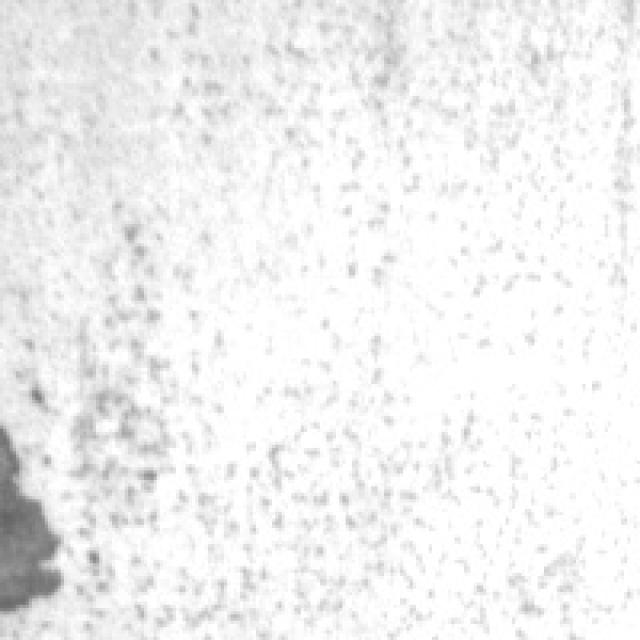patches: (4, 410, 70, 614)
pitted_surface: (71, 0, 640, 630)
